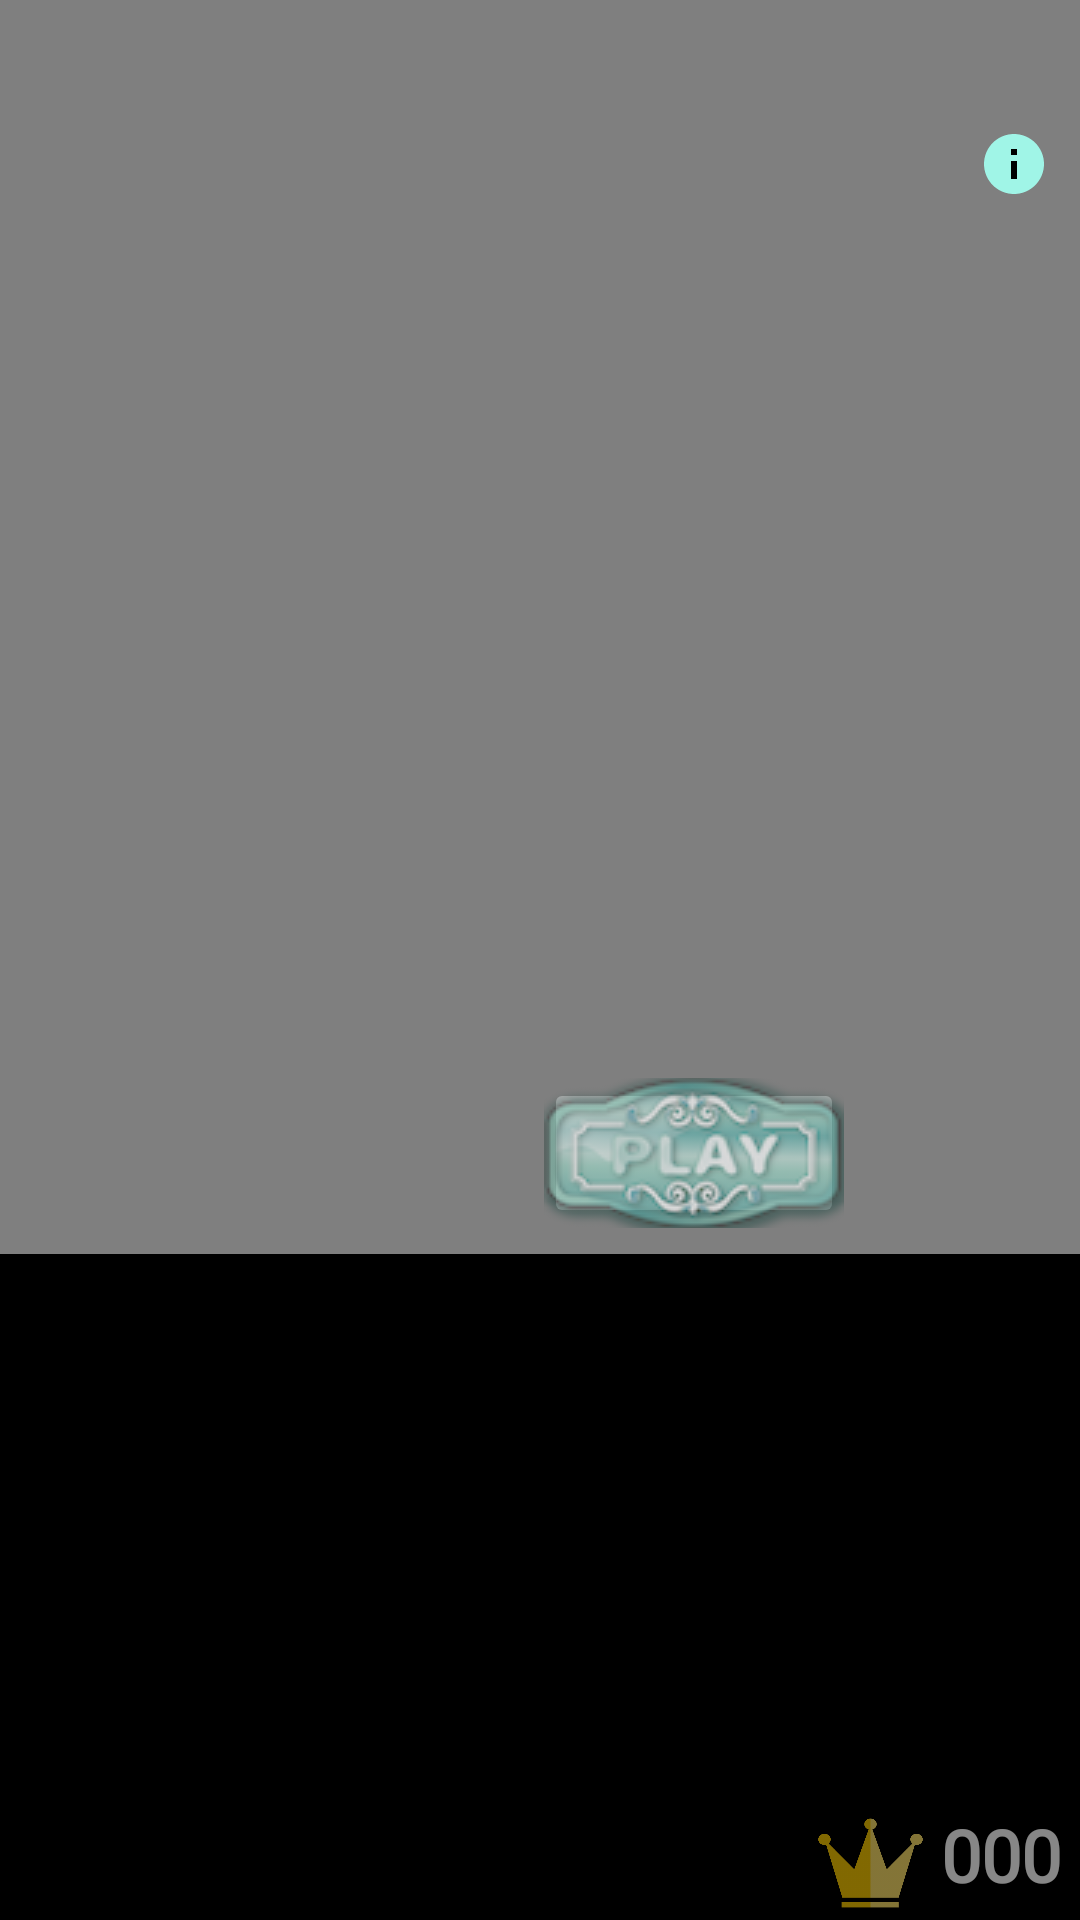

Named icons in this screenshot (1080*1920) and their bounding boxes, bbox=(x1, y1, x2, y2):
crown: bbox=(818, 1818, 923, 1908)
info: bbox=(984, 134, 1044, 194)
